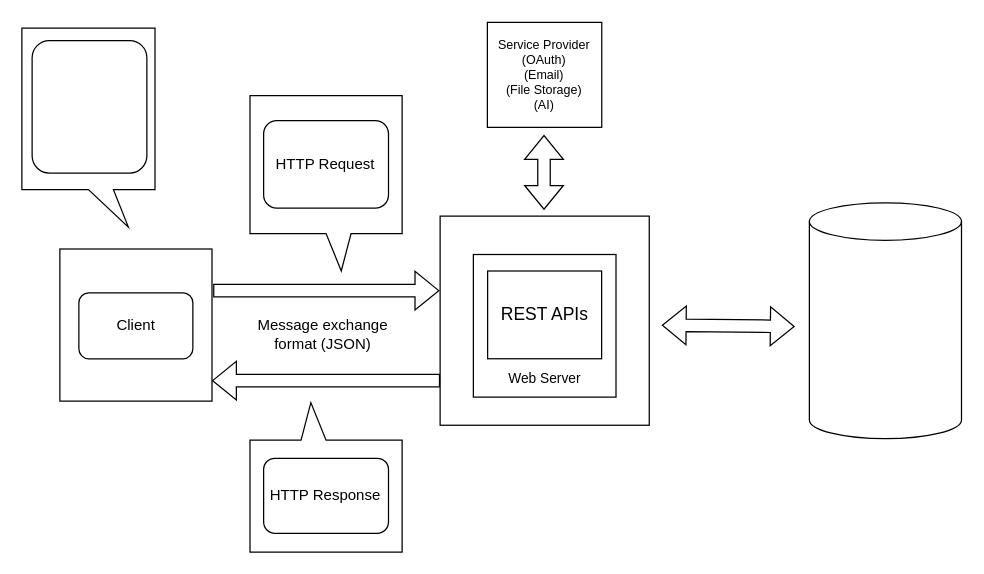
Some shapes in this 984 by 574 pixel diagram are drawn without their labels. Each missing label, with the centre of its shape:
"Browser (this course) Android IOS Desktop" belongs at [89,106].
"Database" belongs at [885,320].
